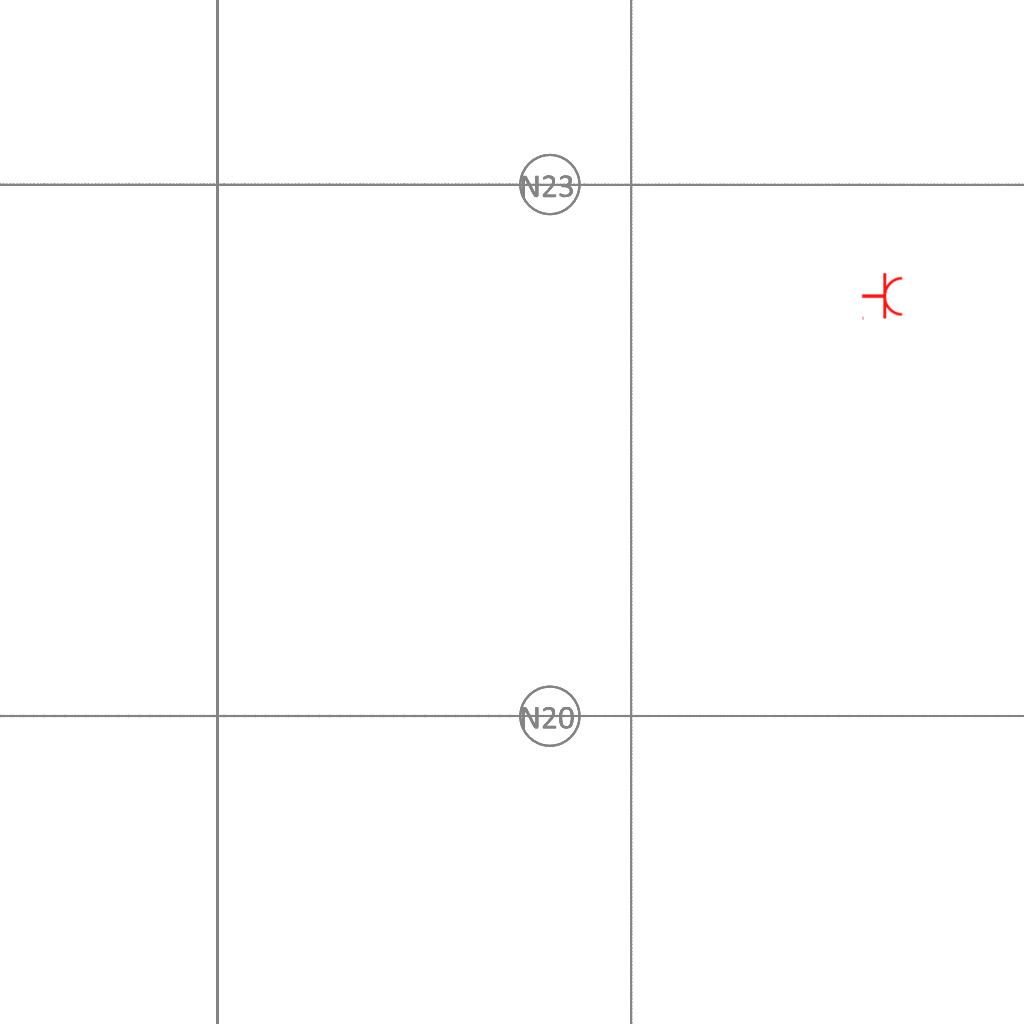Schukosteckdose_einfach: (861, 272, 904, 322)
